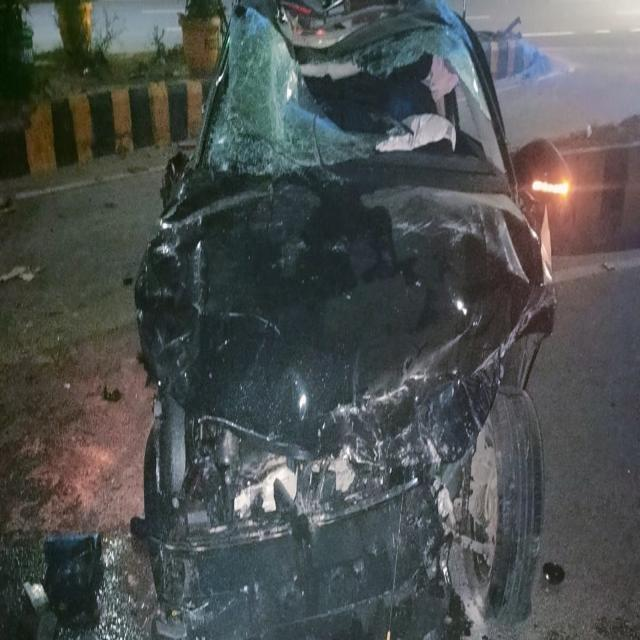accident: (133, 0, 583, 640)
